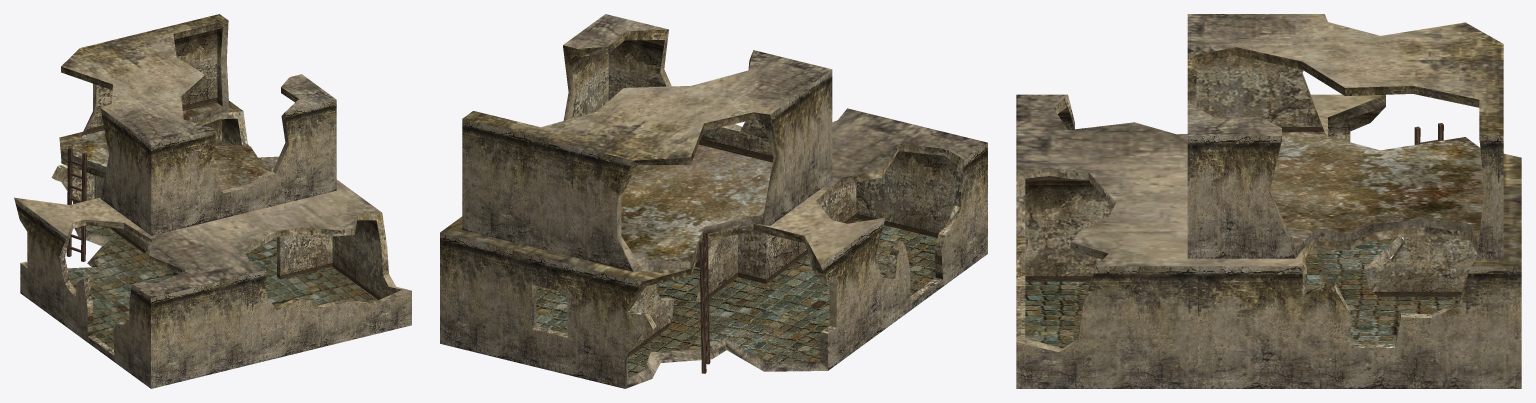
The model's file is DHUT02.glb.
3 views of the same model, side by side, from view 1: azimuth 30°, elevation 25°; view 2: azimuth 150°, elevation 25°; view 3: azimuth 270°, elevation 25° (orthographic). The views are drawn at different scales.
Parts seen in each view (by area): view 1: _DHUT02; view 2: _DHUT02; view 3: _DHUT02.
Boxes of the visible parts, x1,y1,x2,y2 form: _DHUT02: [14, 14, 411, 388]; _DHUT02: [440, 14, 987, 388]; _DHUT02: [1016, 14, 1521, 388].
Size of the model in its own units: 11.25 by 7.52 by 14.
2 materials, 2 textured.
